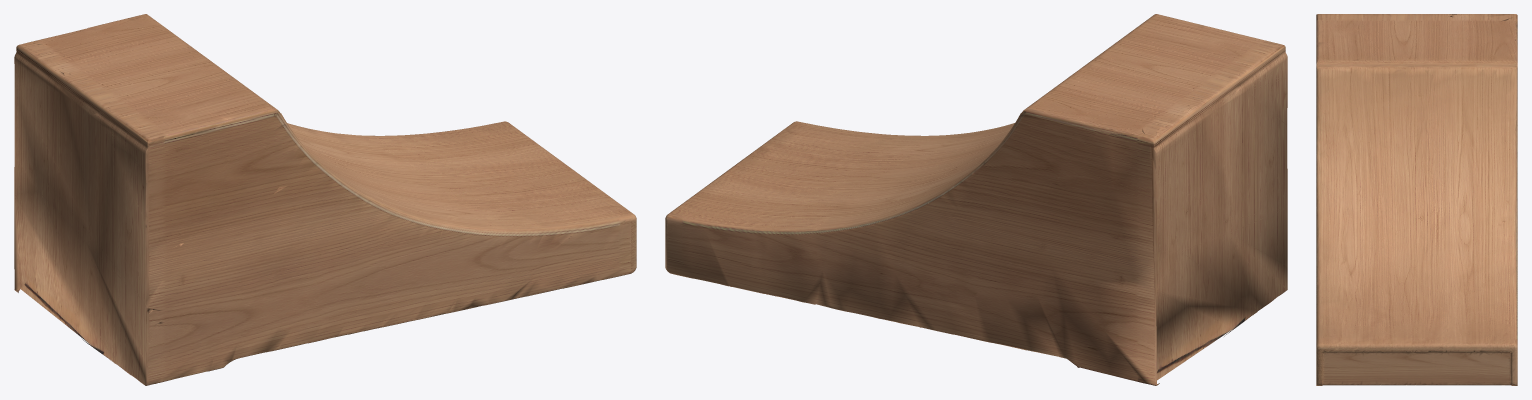
File: ramp.glb
3 views of the same model, side by side, from view 1: azimuth 30°, elevation 25°; view 2: azimuth 150°, elevation 25°; view 3: azimuth 270°, elevation 25° (orthographic). The views are drawn at different scales.
Visible parts, largest first — view 1: Mesh_0; view 2: Mesh_0; view 3: Mesh_0.
Part boxes in pixels (x1=…): Mesh_0: x1=14, y1=14, x2=636, y2=385; Mesh_0: x1=665, y1=14, x2=1287, y2=385; Mesh_0: x1=1316, y1=14, x2=1517, y2=385.
Bounding box in the file's own units: 1.9 × 0.9263 × 0.8791.
Materials: 1 (1 with a texture image).
